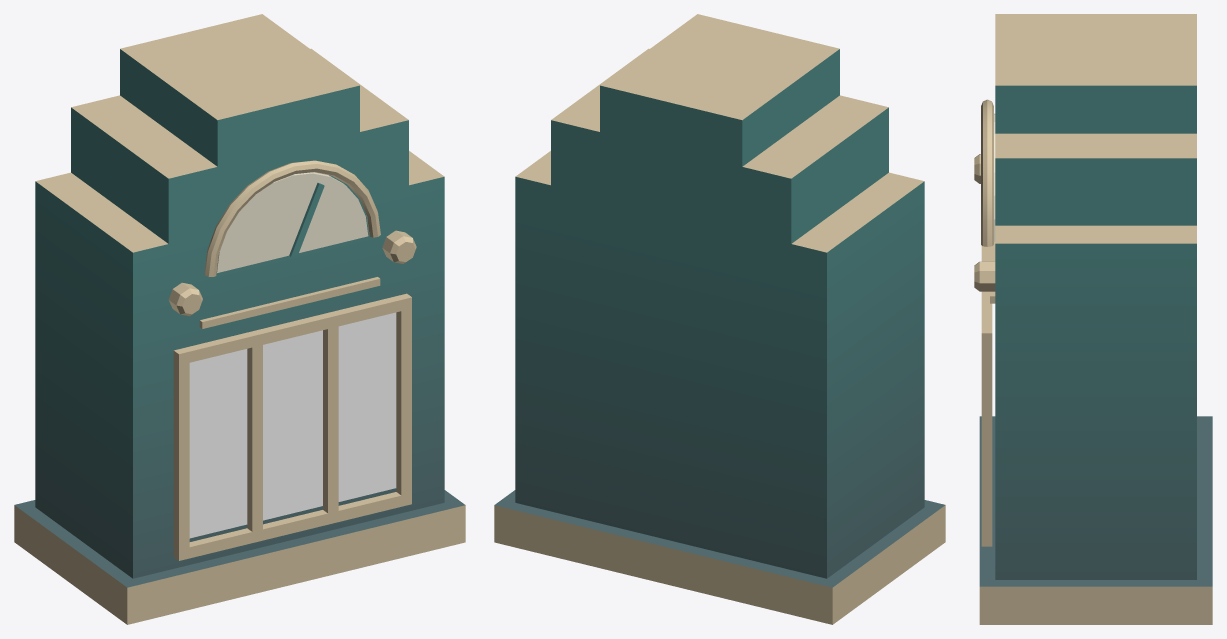
File: KC32__AD_Int_Radio_Console.glb
The picture shows the model from 3 angles, left to right: view 1: azimuth 30°, elevation 25°; view 2: azimuth 150°, elevation 25°; view 3: azimuth 270°, elevation 25°; orthographic projection. The views are drawn at different scales.
Parts seen in each view (by area): view 1: KC32_CORPS__AD_Int_Radio_Console, KC32_BRONZE__AD_Int_Radio_Console, KC32_ACCENT__AD_Int_Radio_Console, KC32_LUMIERE__AD_Int_Radio_Console; view 2: KC32_CORPS__AD_Int_Radio_Console, KC32_BRONZE__AD_Int_Radio_Console; view 3: KC32_CORPS__AD_Int_Radio_Console, KC32_BRONZE__AD_Int_Radio_Console.
Boxes of the visible parts, bbox=[...] form: KC32_CORPS__AD_Int_Radio_Console: bbox=[15, 49, 465, 587]; KC32_BRONZE__AD_Int_Radio_Console: bbox=[14, 14, 465, 624]; KC32_ACCENT__AD_Int_Radio_Console: bbox=[189, 312, 396, 538]; KC32_LUMIERE__AD_Int_Radio_Console: bbox=[216, 172, 368, 272]; KC32_CORPS__AD_Int_Radio_Console: bbox=[494, 49, 944, 587]; KC32_BRONZE__AD_Int_Radio_Console: bbox=[494, 14, 945, 624]; KC32_CORPS__AD_Int_Radio_Console: bbox=[979, 85, 1212, 586]; KC32_BRONZE__AD_Int_Radio_Console: bbox=[974, 14, 1212, 624].
Bounding box in the file's own units: 0.76 × 1.02 × 0.45.
